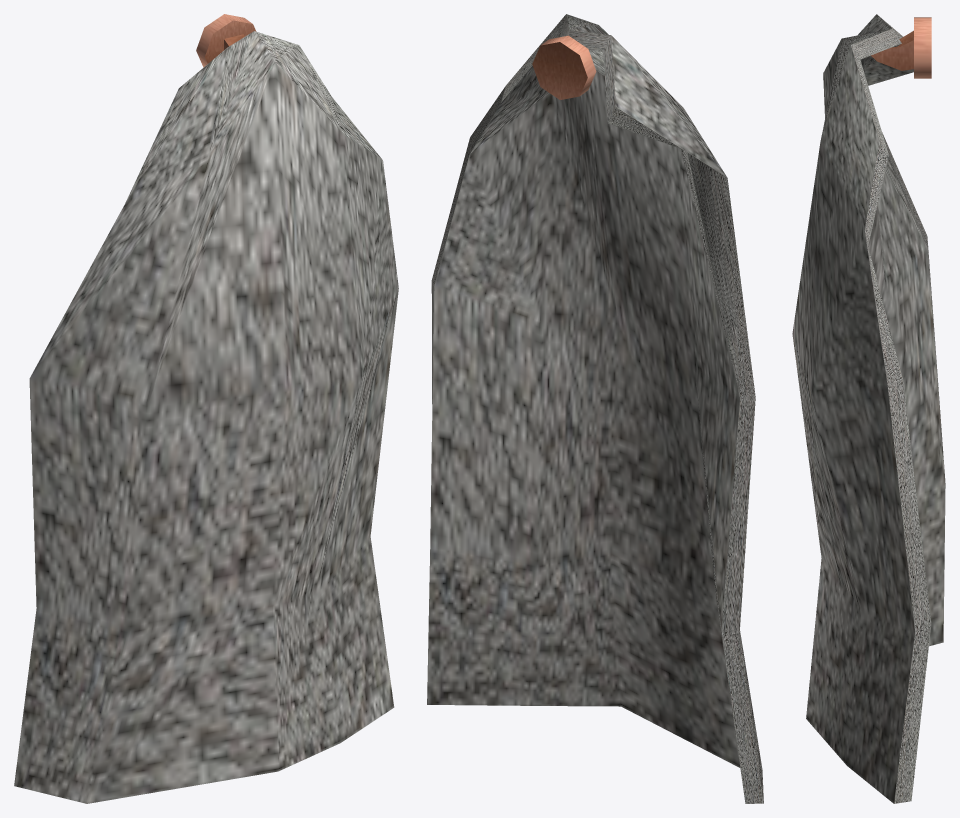
Rendered from tower hanger1.FBX.
3 views of the same model, side by side, from view 1: azimuth 30°, elevation 25°; view 2: azimuth 150°, elevation 25°; view 3: azimuth 270°, elevation 25° (orthographic).
Visible parts, largest first — view 1: Box002, Cylinder001; view 2: Box002, Cylinder001; view 3: Box002, Cylinder001, Box001.
Boxes of the visible parts, left/top/right/bottom form: Box002: left=14, top=31, right=398, bottom=803; Cylinder001: left=196, top=14, right=256, bottom=67; Box002: left=427, top=14, right=763, bottom=803; Cylinder001: left=532, top=35, right=596, bottom=99; Box002: left=792, top=14, right=945, bottom=803; Cylinder001: left=914, top=17, right=931, bottom=78; Box001: left=871, top=30, right=913, bottom=70.
Bounding box in the file's own units: 190 × 363 × 70.12.
Materials: 2 (2 with a texture image).
